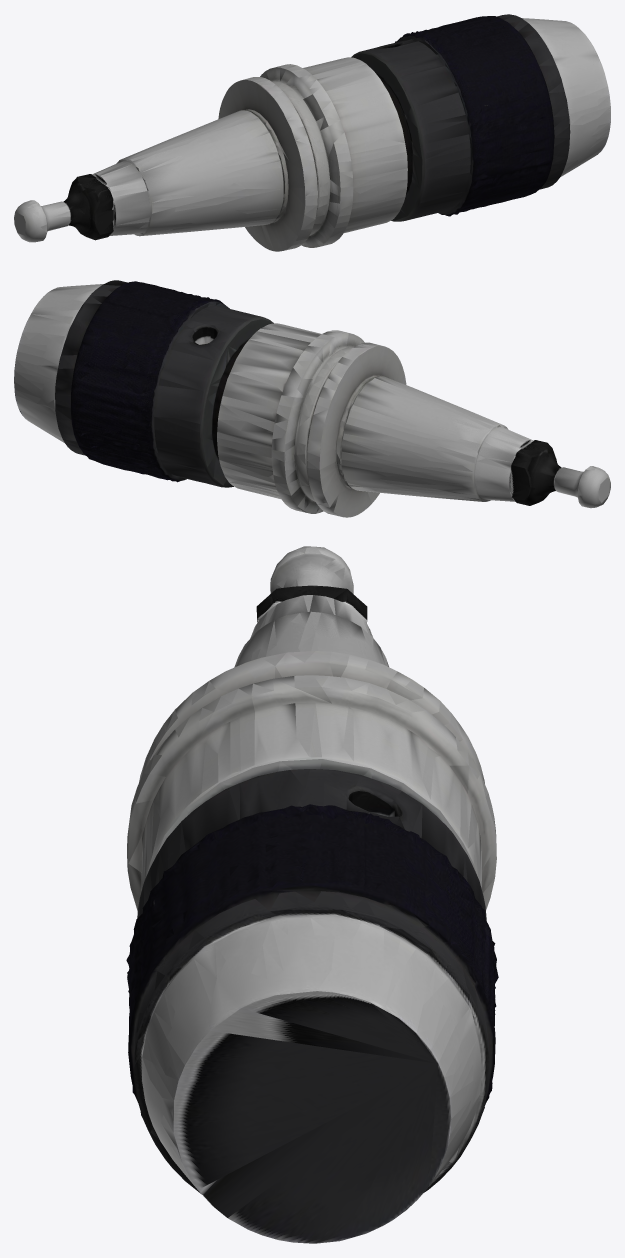
Rendered from tool_731.obj.
The picture shows the model from 3 angles, top to bottom: view 1: azimuth 30°, elevation 25°; view 2: azimuth 150°, elevation 25°; view 3: azimuth 270°, elevation 25°; orthographic projection. The views are drawn at different scales.
Visible parts, largest first — view 1: tool_731_tripo_normalized; view 2: tool_731_tripo_normalized; view 3: tool_731_tripo_normalized.
Boxes of the visible parts, <box> form: tool_731_tripo_normalized: <box>14,14,610,251</box>; tool_731_tripo_normalized: <box>14,280,610,517</box>; tool_731_tripo_normalized: <box>126,546,498,1243</box>.
Bounding box in the file's own units: 89.98 × 26.22 × 26.1.
Materials: 1 (1 with a texture image).
